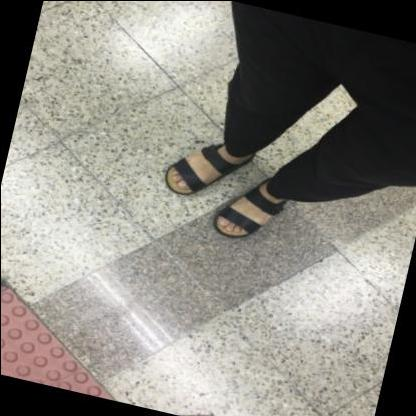no_safety-shoe: (212, 167, 311, 268), (151, 115, 224, 214)
